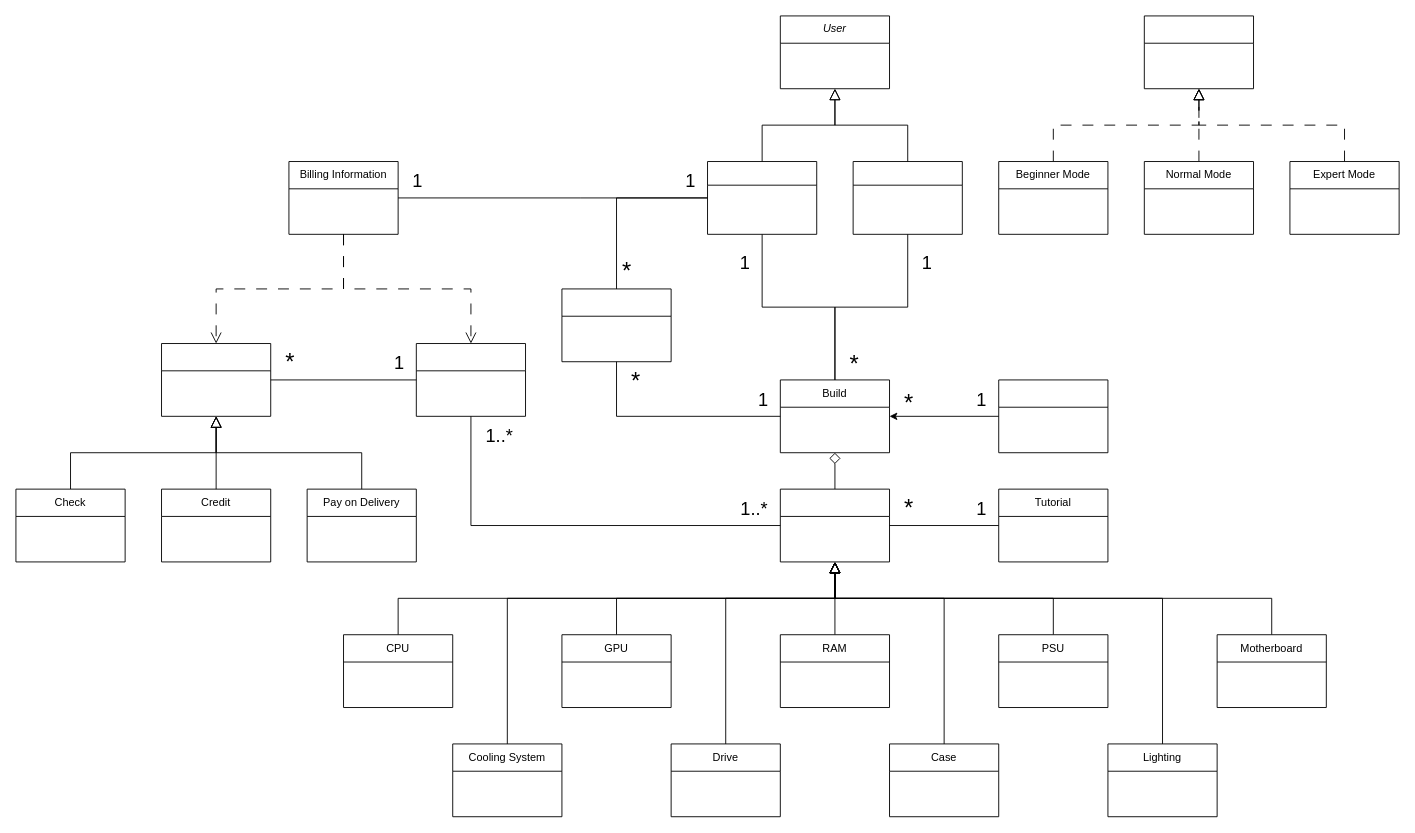
The diagram is 1415 pixels wide and 833 high, and some of its shapes have lost their labels. Here are the shapes that lost their labels. From the top down, the centre of each, then its label:
At point (1198, 52): "Building Mode".
At point (762, 197): "Builder".
At point (907, 197): "Guest".
At point (616, 325): "Rating".
At point (216, 379): "Purchase".
At point (470, 379): "Store".
At point (1053, 416): "Wall of Builds".
At point (834, 525): "PC Part".
